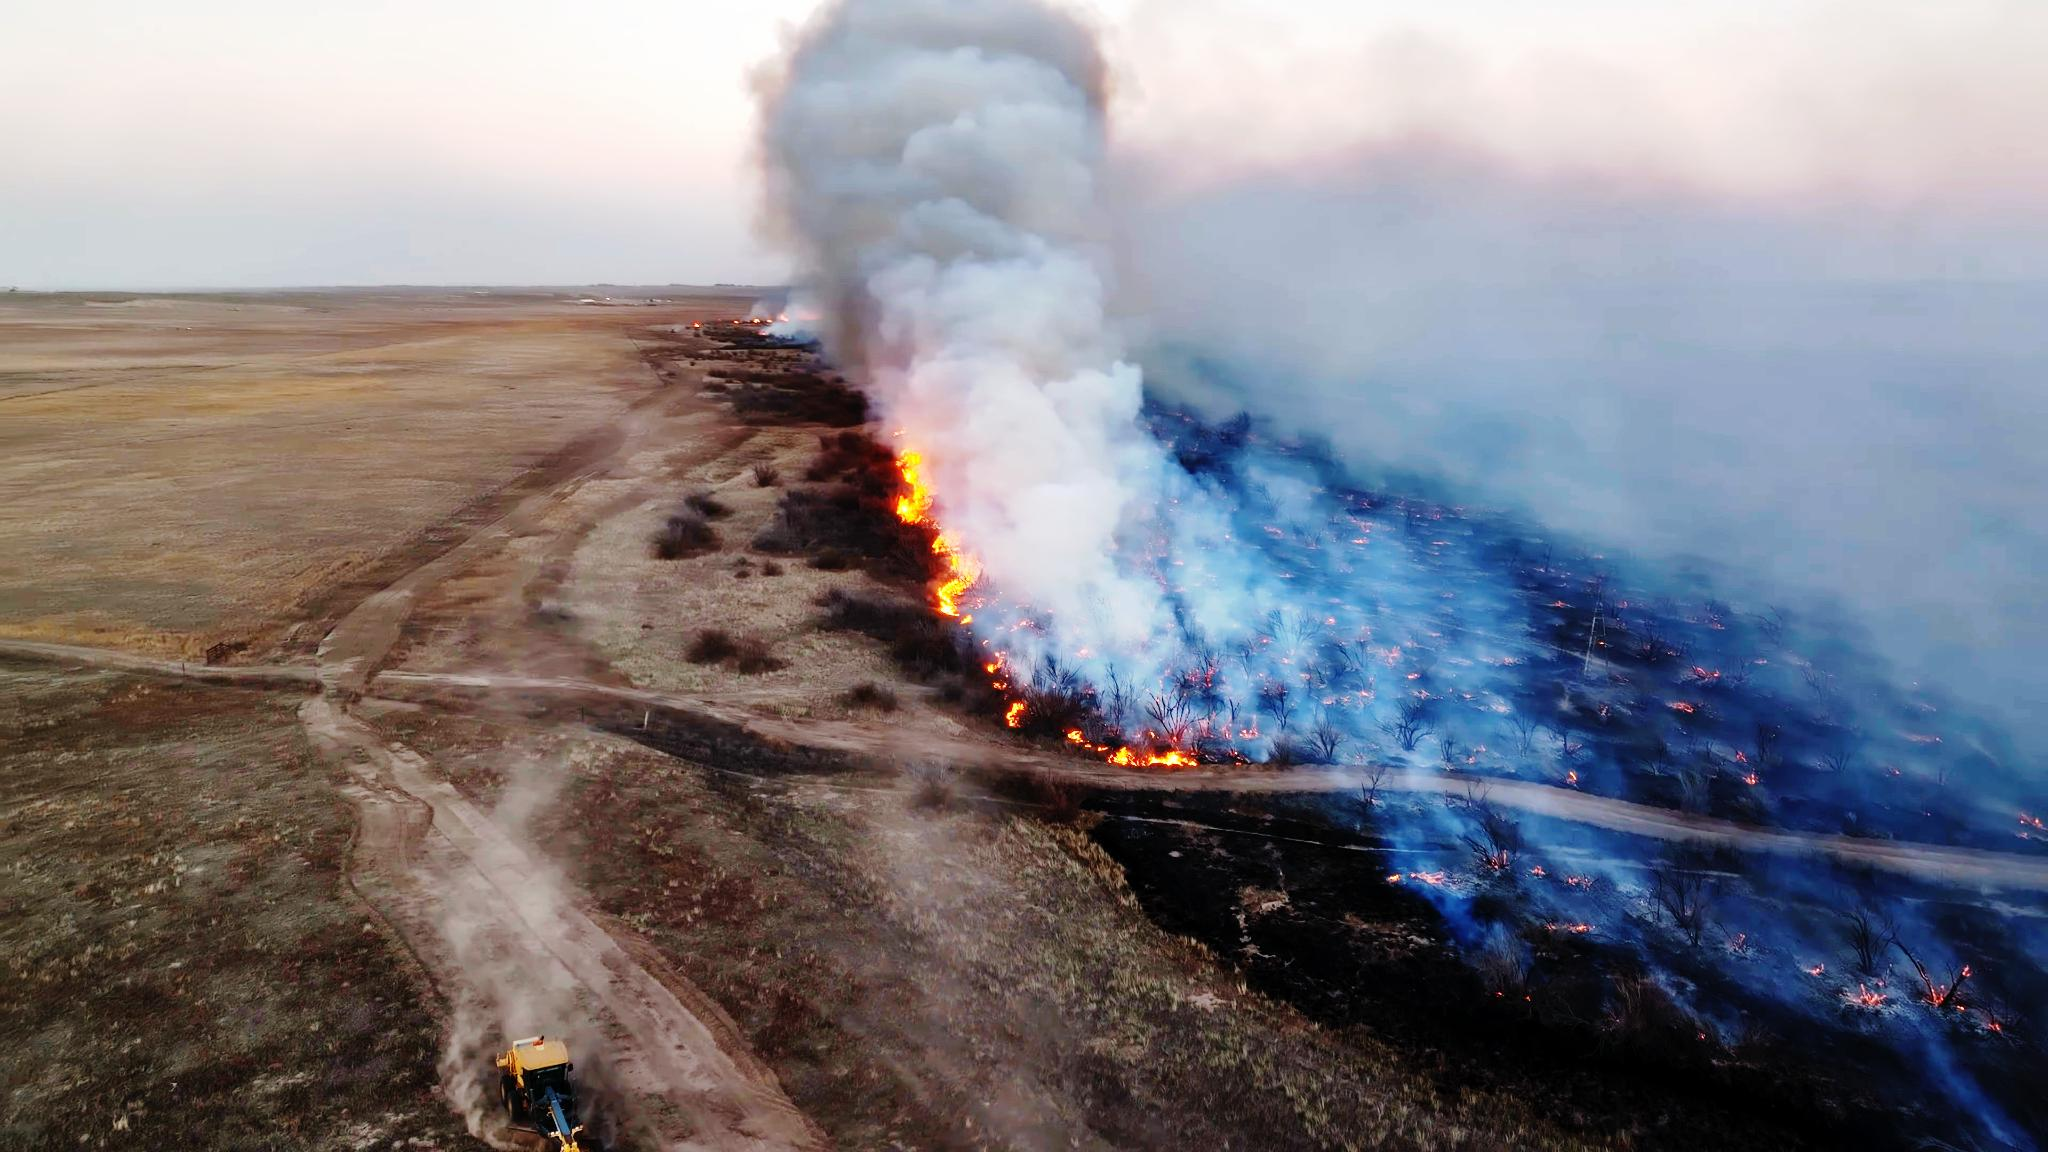fire: (897, 446, 965, 623)
smoke: (830, 0, 1106, 378), (955, 446, 1145, 654), (910, 342, 1113, 436)
